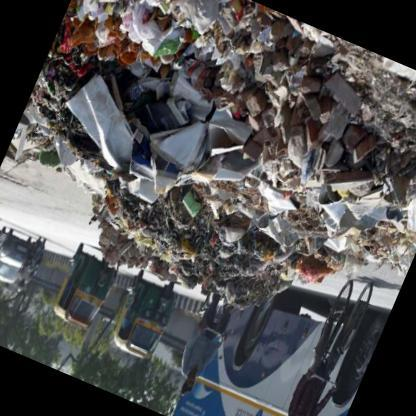Garbage: (26, 0, 415, 269), (89, 0, 375, 292), (87, 84, 222, 240), (285, 118, 415, 251), (183, 155, 310, 290), (158, 0, 310, 110), (104, 209, 260, 308), (40, 0, 178, 106)
